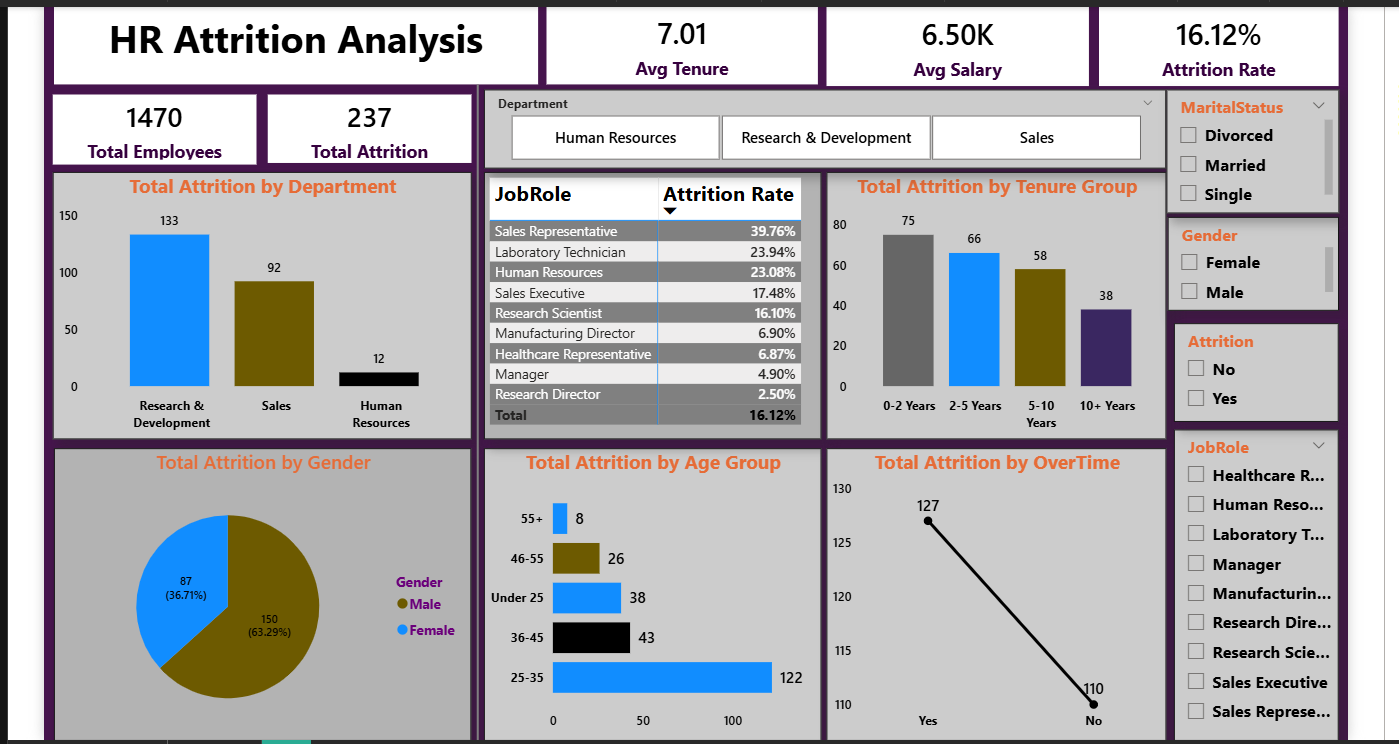

The dashboard page shown, as its layout file describes it:
{"tool":"powerbi","page":{"name":"Page 1","canvas":[1280,720],"ordinal":0},"visuals":[{"type":"card","fields":{"Values":["Measure_table.Total Employees"]},"box":[8.6,85.9,200,68.7],"z":0},{"type":"card","fields":{"Values":["Measure_table.Attrition Rate"]},"box":[1035.6,0,235.6,77.3],"z":1000},{"type":"card","fields":{"Values":["Measure_table.Avg Salary"]},"box":[768.1,0,257.7,77.3],"z":2000},{"type":"card","fields":{"Values":["Measure_table.Avg Tenure"]},"box":[493.3,0,266.3,76.1],"z":3000},{"type":"card","fields":{"Values":["Measure_table.Total Attrition"]},"box":[219.6,85.9,200,67.5],"z":4000},{"type":"textbox","box":[9.8,0,474.8,76.1],"z":5000},{"type":"columnChart","fields":{"Y":["Measure_table.Total Attrition"],"Category":["HR-Employee-Attrition.Department"]},"box":[8.6,162,411,262.6],"z":6000},{"type":"pieChart","fields":{"Y":["Measure_table.Total Attrition"],"Category":["HR-Employee-Attrition.Gender"]},"box":[9.8,433.1,409.8,287.1],"z":7000},{"type":"barChart","fields":{"Category":["HR-Employee-Attrition.Age Group"],"Y":["Measure_table.Total Attrition"]},"box":[431.9,433.1,331.3,287.1],"z":7001},{"type":"shape","box":[419.6,76.1,12.3,644.2],"z":7002},{"type":"pivotTable","fields":{"Rows":["HR-Employee-Attrition.JobRole"],"Values":["Measure_table.Attrition Rate"]},"box":[431.9,162,331.3,262.6],"z":7003},{"type":"clusteredColumnChart","fields":{"Category":["HR-Employee-Attrition.Tenure Group"],"Y":["Measure_table.Total Attrition"]},"box":[768.1,162,333.7,262.6],"z":7004},{"type":"lineChart","fields":{"Category":["HR-Employee-Attrition.OverTime"],"Y":["Measure_table.Total Attrition"]},"box":[768.1,433.1,333.7,287.1],"z":7005},{"type":"slicer","fields":{"Values":["HR-Employee-Attrition.Department"]},"box":[431.9,81,669.9,77.3],"z":7006},{"type":"slicer","fields":{"Values":["HR-Employee-Attrition.JobRole"]},"box":[1109.2,414.7,162,305.5],"z":7007},{"type":"slicer","fields":{"Values":["HR-Employee-Attrition.Gender"]},"box":[1103.1,206.1,168.1,92],"z":7008},{"type":"slicer","fields":{"Values":["HR-Employee-Attrition.Attrition"]},"box":[1109.2,310.4,162,96.9],"z":7009},{"type":"slicer","fields":{"Values":["HR-Employee-Attrition.MaritalStatus"]},"box":[1101.8,81,169.3,121.5],"z":7010}]}

Visuals, with their boxes in screenshot pixels (x1, y1, x2, y2):
card - Measure_table.Total Employees: 49, 91, 252, 161
card - Measure_table.Attrition Rate: 1094, 4, 1334, 82
card - Measure_table.Avg Salary: 822, 4, 1084, 82
card - Measure_table.Avg Tenure: 542, 4, 813, 81
card - Measure_table.Total Attrition: 264, 91, 467, 160
textbox: 50, 4, 533, 81
columnChart - Measure_table.Total Attrition x HR-Employee-Attrition.Department: 49, 169, 467, 436
pieChart - Measure_table.Total Attrition x HR-Employee-Attrition.Gender: 50, 445, 467, 737
barChart - HR-Employee-Attrition.Age Group x Measure_table.Total Attrition: 480, 445, 817, 737
shape: 467, 81, 480, 737
pivotTable - HR-Employee-Attrition.JobRole x Measure_table.Attrition Rate: 480, 169, 817, 436
clusteredColumnChart - HR-Employee-Attrition.Tenure Group x Measure_table.Total Attrition: 822, 169, 1162, 436
lineChart - HR-Employee-Attrition.OverTime x Measure_table.Total Attrition: 822, 445, 1162, 737
slicer - HR-Employee-Attrition.Department: 480, 86, 1162, 165
slicer - HR-Employee-Attrition.JobRole: 1169, 426, 1334, 737
slicer - HR-Employee-Attrition.Gender: 1163, 213, 1334, 307
slicer - HR-Employee-Attrition.Attrition: 1169, 320, 1334, 418
slicer - HR-Employee-Attrition.MaritalStatus: 1162, 86, 1334, 210
